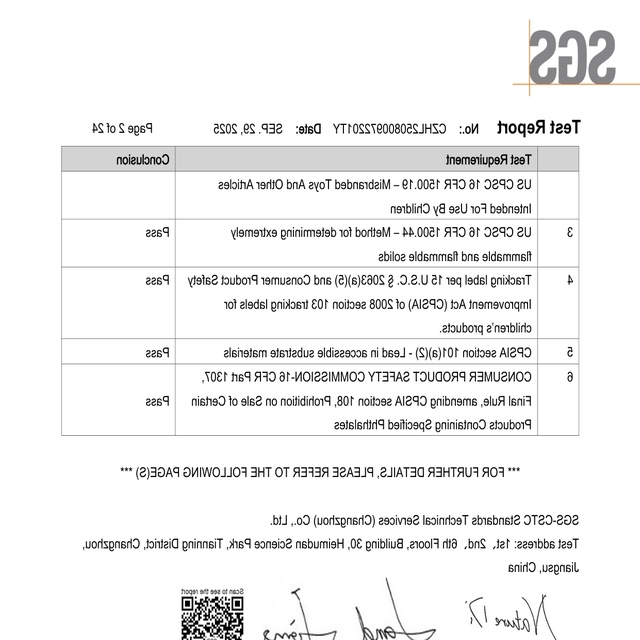sgs: (530, 29, 616, 83)
